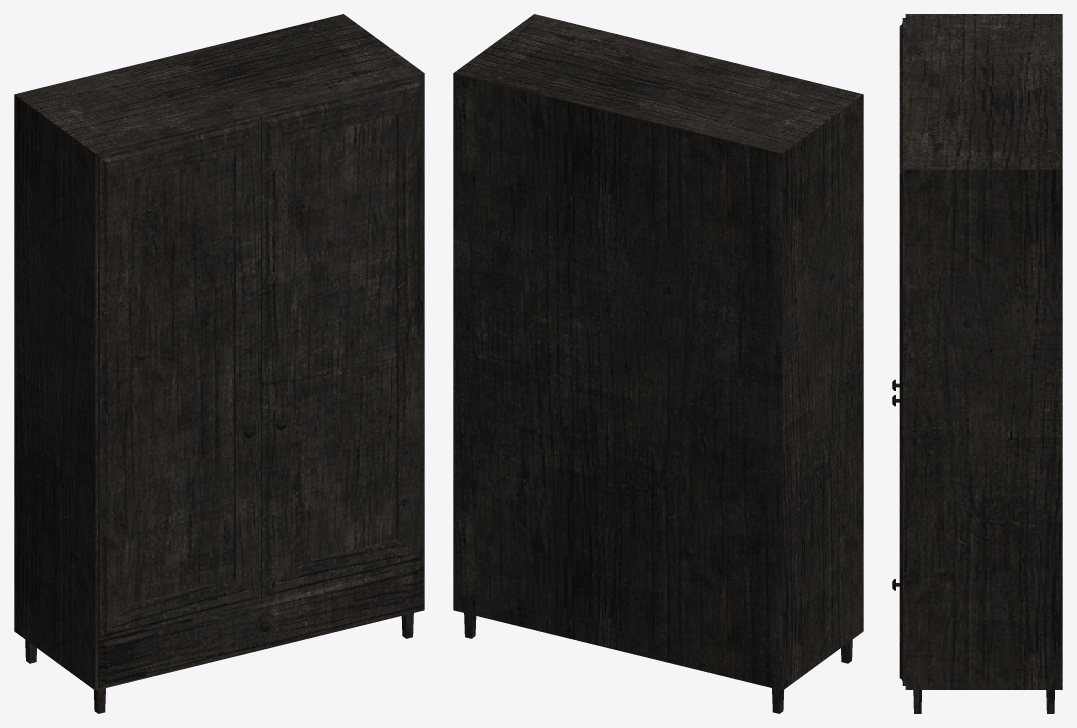
File: wardrobe_mp_1.glb
3 renders of one model, left to right at view 1: azimuth 30°, elevation 25°; view 2: azimuth 150°, elevation 25°; view 3: azimuth 270°, elevation 25°, orthographic. The views are drawn at different scales.
Visible parts, largest first — view 1: wardrobe_mp_1, wardrobe_mp_1_drawer; view 2: wardrobe_mp_1; view 3: wardrobe_mp_1, wardrobe_mp_1_drawer.
Boxes of the visible parts, x1,y1,x2,y2 form: wardrobe_mp_1: (14, 14, 424, 713); wardrobe_mp_1_drawer: (98, 561, 423, 688); wardrobe_mp_1: (453, 14, 863, 713); wardrobe_mp_1: (892, 14, 1062, 713); wardrobe_mp_1_drawer: (892, 579, 905, 685).
Bounding box in the file's own units: 1.22 × 2 × 0.5645.
Materials: 1 (1 with a texture image).
